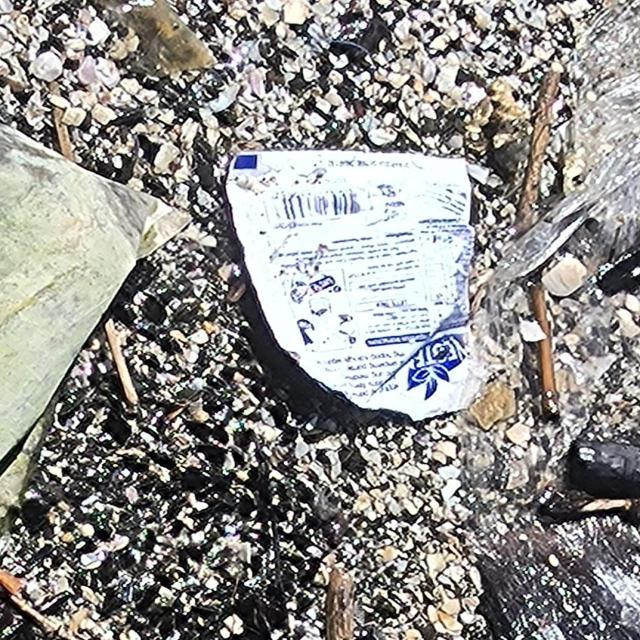plastic_waste: (224, 149, 485, 425)
